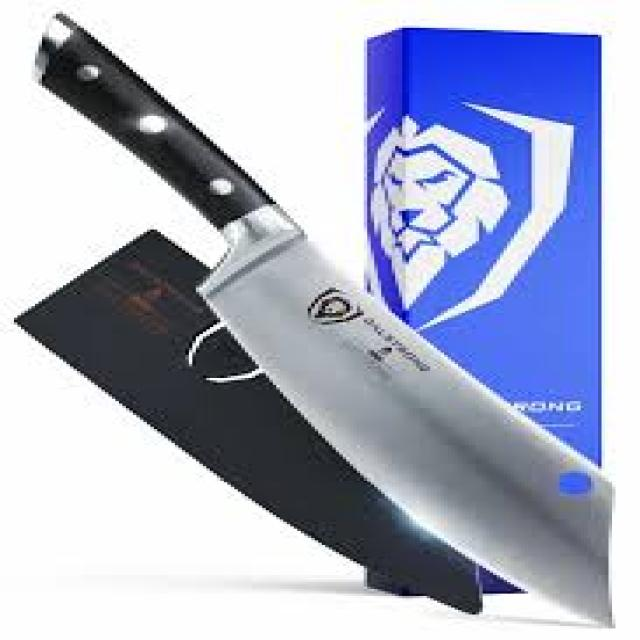Knife: (35, 12, 612, 626)
